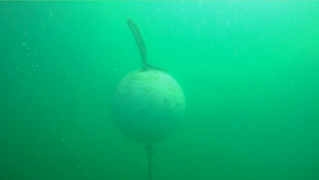buoy: (111, 69, 187, 143)
